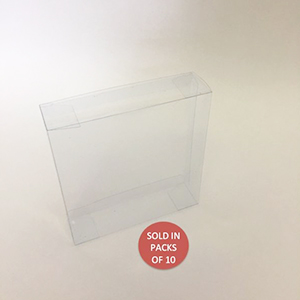PlasticBox: (37, 69, 214, 247)
